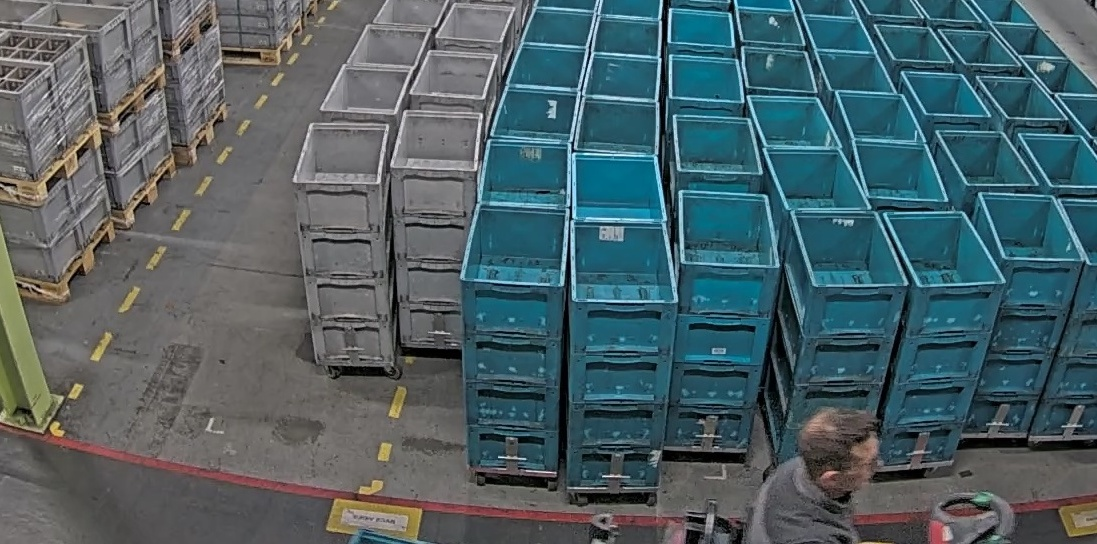4G: (291, 121, 395, 366), (389, 109, 486, 346)
B4: (767, 207, 910, 467), (870, 210, 1006, 469), (457, 202, 573, 473), (663, 190, 783, 449), (961, 190, 1086, 435), (568, 218, 680, 488)
